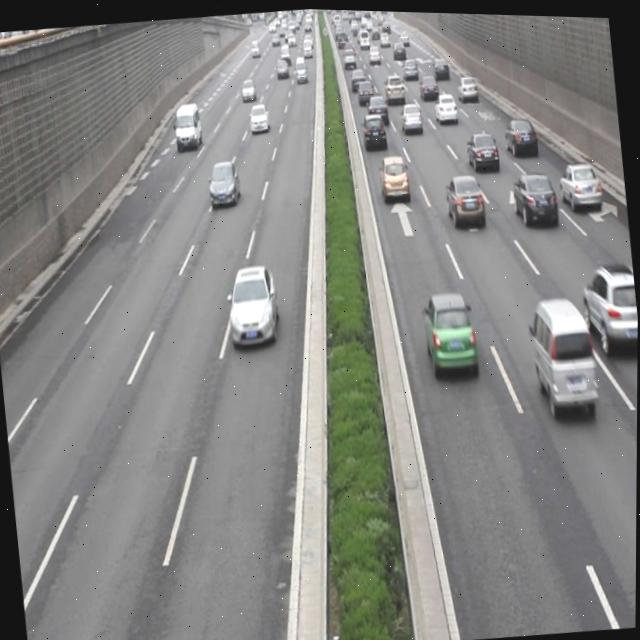car: (580, 257, 639, 354), (420, 287, 478, 378), (224, 259, 279, 348), (554, 155, 602, 212), (510, 167, 557, 225), (445, 169, 484, 225), (204, 155, 242, 207), (502, 112, 538, 158), (463, 126, 498, 171), (378, 149, 408, 201), (360, 108, 385, 149), (365, 88, 388, 126), (397, 98, 421, 134), (432, 90, 456, 120), (247, 101, 269, 130)
truck: (527, 292, 597, 418), (173, 102, 204, 149)
